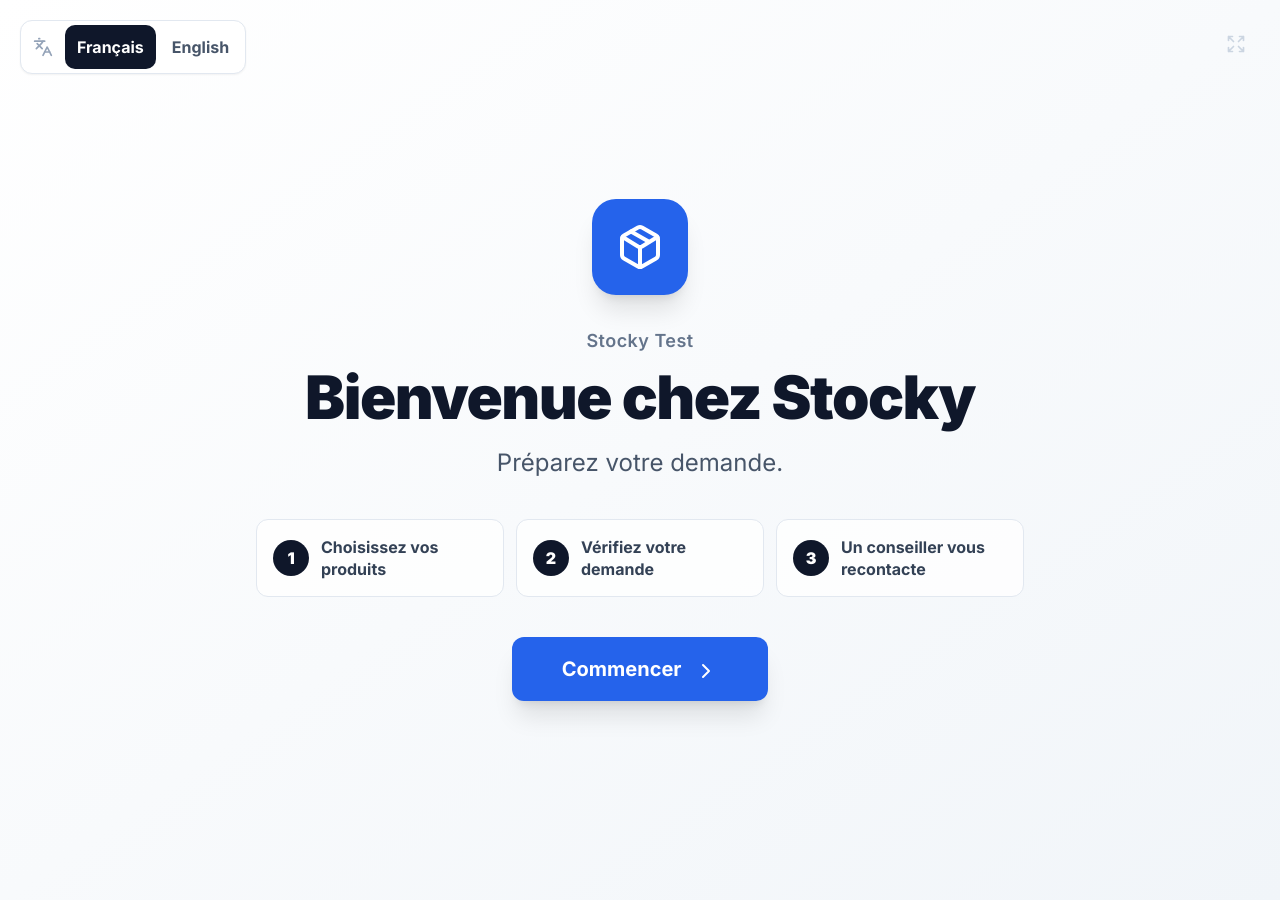
KioskPage › lets the customer switch to another offered language
Check: the button "Commencer" is shown, box [512, 637, 768, 701]
Click the button "English" at (200, 47), box [160, 25, 241, 69]
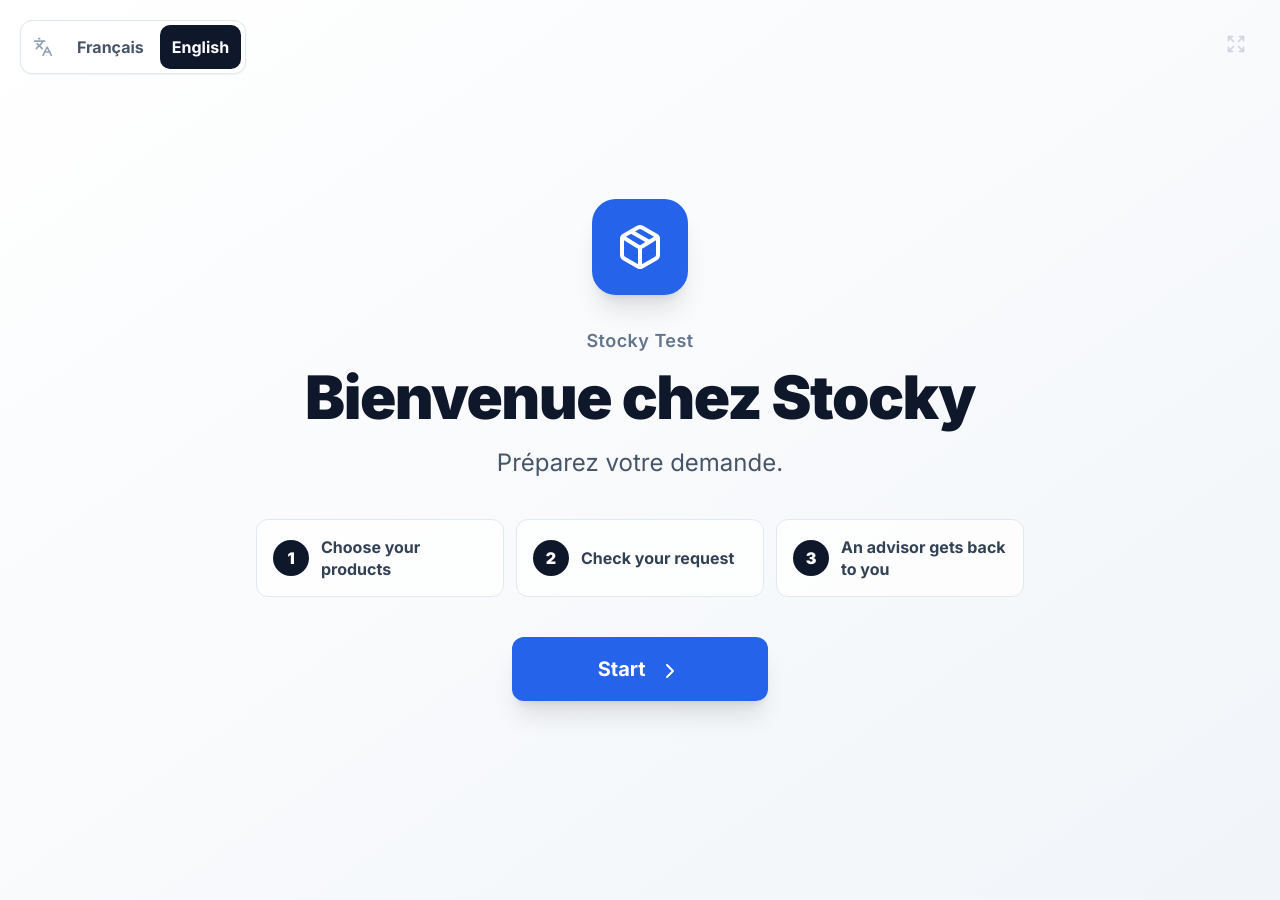
Check: the button "Start" is shown, box [512, 637, 768, 701]
Click the button "Français" at (110, 47), box [65, 25, 156, 69]
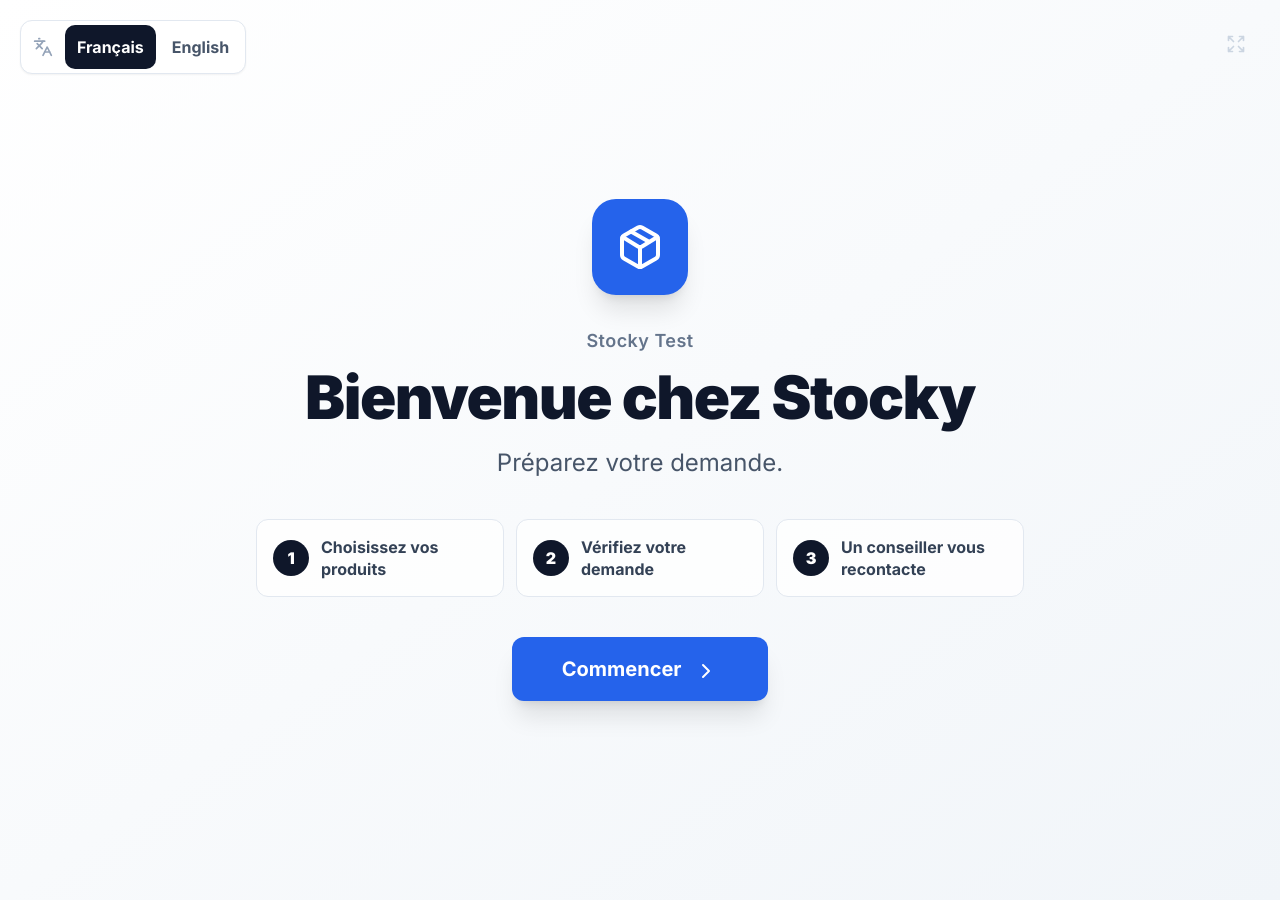
Check: the button "Commencer" is shown, box [512, 637, 768, 701]
